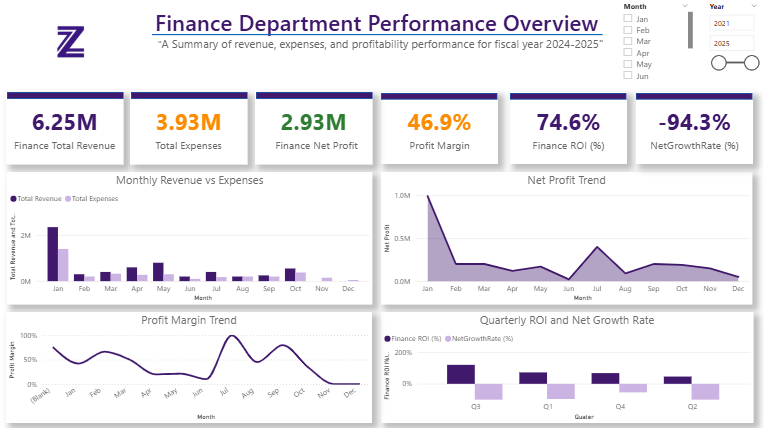

The page's visual inventory and layout, read from the dashboard file:
{"tool":"powerbi","page":{"name":"Finance","canvas":[1280,720],"ordinal":1},"visuals":[{"type":"textbox","box":[258.6,10,762.9,102.9],"z":0},{"type":"shape","box":[258.6,47.1,751.4,28.6],"z":1000},{"type":"group","id":"g1","title":"Group 1","box":[14.3,157.1,195.7,121.4],"z":2000},{"type":"group","id":"g2","title":"Group 3","box":[640.3,156.7,195.4,120],"z":3000},{"type":"card","fields":{"Values":["Finance.Profit Margin"]},"box":[640.3,156.7,195.4,120],"z":3000,"group":"g2"},{"type":"card","fields":{"Values":["Sum(Finance.Revenue)"]},"box":[14.3,157.1,195.8,121],"z":3000,"group":"g1"},{"type":"card","fields":{"Values":["Finance.Total Expenses"]},"box":[221.4,157.1,195.8,121],"z":3000,"group":"g4"},{"type":"card","fields":{"Values":["Sum(Finance.Net Profit)"]},"box":[430,157.1,195.8,121],"z":3000,"group":"g5"},{"type":"card","fields":{"Values":["Finance.Finance ROI (%)"]},"box":[854.3,157.1,195.4,120],"z":3000,"group":"g3"},{"type":"card","fields":{"Values":["Finance.NetGrowthRate (%)"]},"box":[1065.7,157.1,195.4,120],"z":3000,"group":"g7"},{"type":"group","id":"g3","title":"Group 3","box":[854.3,157.1,195.4,120],"z":3004,"group":"g6"},{"type":"group","id":"g4","title":"Group 2","box":[221.4,157.1,195.7,121.4],"z":4000},{"type":"shape","box":[222.8,157.1,194.4,11.5],"z":5000,"group":"g4"},{"type":"group","id":"g5","title":"Group 2","box":[430,157.1,194.3,120],"z":5000},{"type":"shape","box":[431.4,157.1,194.4,11.5],"z":5000,"group":"g5"},{"type":"shape","box":[640.3,158.7,193.8,10.8],"z":5000,"group":"g2"},{"type":"shape","box":[854.3,159.1,193.8,10.8],"z":5000,"group":"g3"},{"type":"shape","box":[1065.7,159.1,193.8,10.8],"z":5000,"group":"g7"},{"type":"shape","box":[15.7,157.1,194.4,11.5],"z":5500,"group":"g1"},{"type":"group","id":"g6","title":"Group 2","box":[854.3,157.1,194.3,120],"z":6000},{"type":"lineClusteredColumnComboChart","title":"Monthly Revenue vs Expenses ","fields":{"Category":["Date.Month"],"Y":["Sum(Finance.Revenue)","Finance.Total Expenses"]},"box":[16.4,289.6,609,220.9],"z":7000},{"type":"areaChart","title":"Net Profit Trend ","fields":{"Y":["Sum(Finance.Net Profit)"],"Category":["Date.Month"]},"box":[640.3,289.6,619.4,220.9],"z":8000},{"type":"clusteredColumnChart","title":"Quarterly ROI and Net Growth Rate ","fields":{"Y":["Finance.Finance ROI (%)","Finance.NetGrowthRate (%)"],"Category":["Date.Quater"]},"box":[640.3,523.9,620.9,185.1],"z":9000},{"type":"lineChart","title":"Profit Margin Trend","fields":{"Y":["Finance.Profit Margin"],"Category":["Date.Month"]},"box":[14.9,523.9,610.4,185.1],"z":10000},{"type":"slicer","fields":{"Values":["Date.Month"]},"box":[1031.3,0,132.8,146.3],"z":11000},{"type":"group","id":"g7","title":"Group 4","box":[1065.7,157.1,195.4,120],"z":12000},{"type":"slicer","fields":{"Values":["Date.Year"]},"box":[1175.5,0,104.5,146.3],"z":13000},{"type":"image","box":[0,0,246.2,146.2],"z":14000}]}

Visuals, with their boxes in screenshot pixels (x1, y1, x2, y2), scaled from the page's 1280x720 canvas onto the 764x428 screenshot:
textbox: [x1=154, y1=6, x2=610, y2=67]
shape: [x1=154, y1=28, x2=603, y2=45]
"Group 1" group: [x1=9, y1=93, x2=125, y2=166]
"Group 3" group: [x1=382, y1=93, x2=499, y2=164]
card - Finance.Profit Margin: [x1=382, y1=93, x2=499, y2=164]
card - Sum(Finance.Revenue): [x1=9, y1=93, x2=125, y2=165]
card - Finance.Total Expenses: [x1=132, y1=93, x2=249, y2=165]
card - Sum(Finance.Net Profit): [x1=257, y1=93, x2=374, y2=165]
card - Finance.Finance ROI (%): [x1=510, y1=93, x2=627, y2=165]
card - Finance.NetGrowthRate (%): [x1=636, y1=93, x2=753, y2=165]
"Group 3" group: [x1=510, y1=93, x2=627, y2=165]
"Group 2" group: [x1=132, y1=93, x2=249, y2=166]
shape: [x1=133, y1=93, x2=249, y2=100]
"Group 2" group: [x1=257, y1=93, x2=373, y2=165]
shape: [x1=257, y1=93, x2=374, y2=100]
shape: [x1=382, y1=94, x2=498, y2=101]
shape: [x1=510, y1=95, x2=626, y2=101]
shape: [x1=636, y1=95, x2=752, y2=101]
shape: [x1=9, y1=93, x2=125, y2=100]
"Group 2" group: [x1=510, y1=93, x2=626, y2=165]
"Monthly Revenue vs Expenses " lineClusteredColumnComboChart: [x1=10, y1=172, x2=373, y2=303]
"Net Profit Trend " areaChart: [x1=382, y1=172, x2=752, y2=303]
"Quarterly ROI and Net Growth Rate " clusteredColumnChart: [x1=382, y1=311, x2=753, y2=421]
"Profit Margin Trend" lineChart: [x1=9, y1=311, x2=373, y2=421]
slicer - Date.Month: [x1=616, y1=0, x2=695, y2=87]
"Group 4" group: [x1=636, y1=93, x2=753, y2=165]
slicer - Date.Year: [x1=702, y1=0, x2=763, y2=87]
image: [x1=0, y1=0, x2=147, y2=87]
